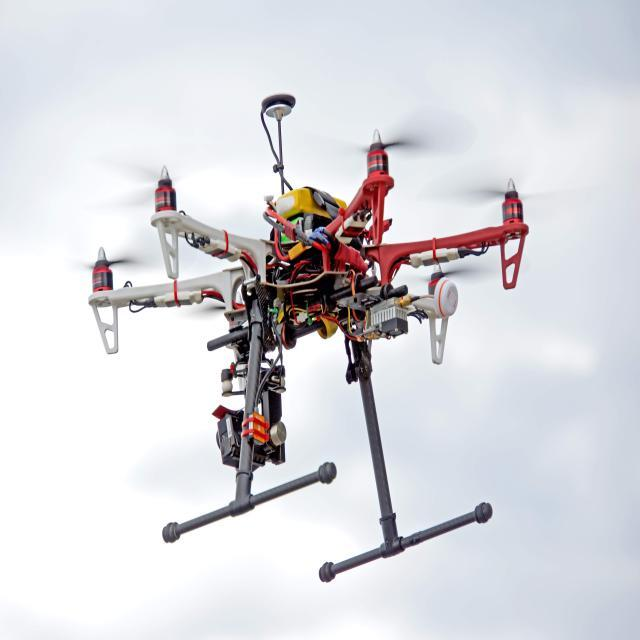drones: (32, 83, 547, 596)
